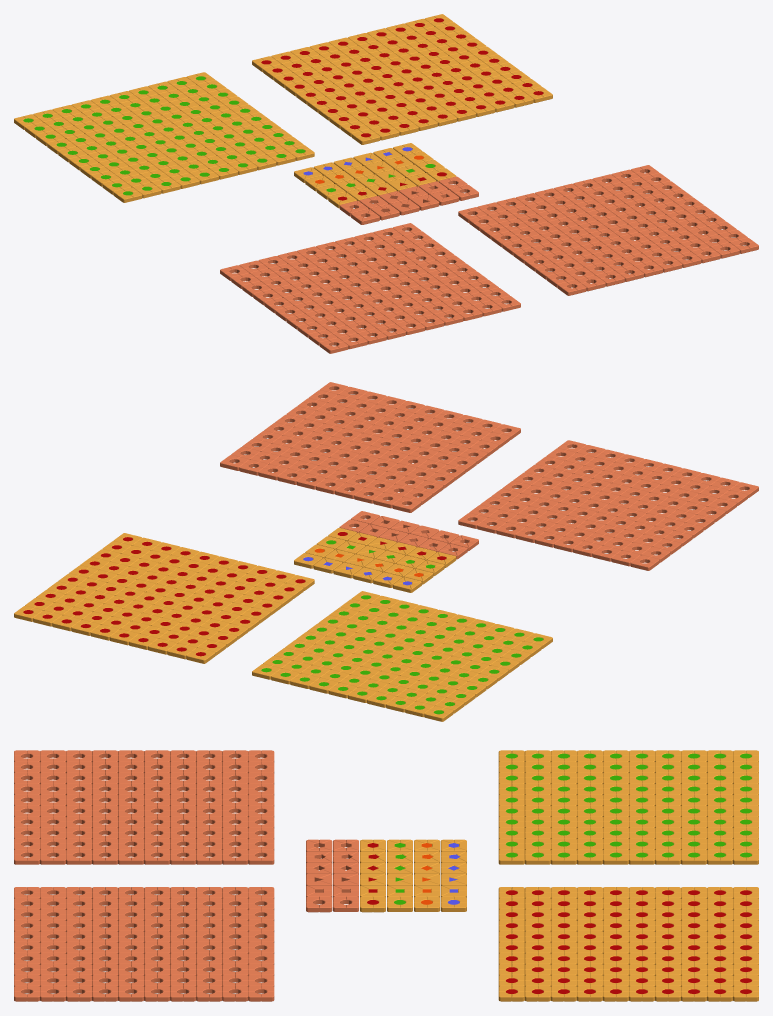
File: PyroTiles.fbx
3 views of the same model, one above another, from view 1: azimuth 30°, elevation 25°; view 2: azimuth 150°, elevation 25°; view 3: azimuth 270°, elevation 25° (orthographic). The views are drawn at different scales.
Parts seen in each view (by area): view 1: HugeTileTSH, HugeTileTS, HugeTileFB, HugeTileFBH; view 2: HugeTileTS, HugeTileTSH, HugeTileFBH, HugeTileFB; view 3: HugeTileFB, HugeTileTS, HugeTileTSH, HugeTileFBH, CircleTileTSH, CircleTileTS.
Part boxes in pixels (left/top/right/bottom): HugeTileTSH: left=458, top=165, right=758, bottom=295; HugeTileTS: left=252, top=14, right=552, bottom=144; HugeTileFB: left=14, top=72, right=314, bottom=202; HugeTileFBH: left=220, top=223, right=520, bottom=353; HugeTileTS: left=14, top=533, right=314, bottom=663; HugeTileTSH: left=220, top=382, right=520, bottom=512; HugeTileFBH: left=458, top=440, right=758, bottom=570; HugeTileFB: left=252, top=591, right=552, bottom=721; HugeTileFB: left=498, top=750, right=758, bottom=864; HugeTileTS: left=498, top=887, right=758, bottom=1001; HugeTileTSH: left=14, top=887, right=274, bottom=1001; HugeTileFBH: left=14, top=750, right=274, bottom=864; CircleTileTSH: left=306, top=896, right=332, bottom=912; CircleTileTS: left=360, top=896, right=385, bottom=912.
Size of the model in its own units: 2166 by 19.92 by 2766.
